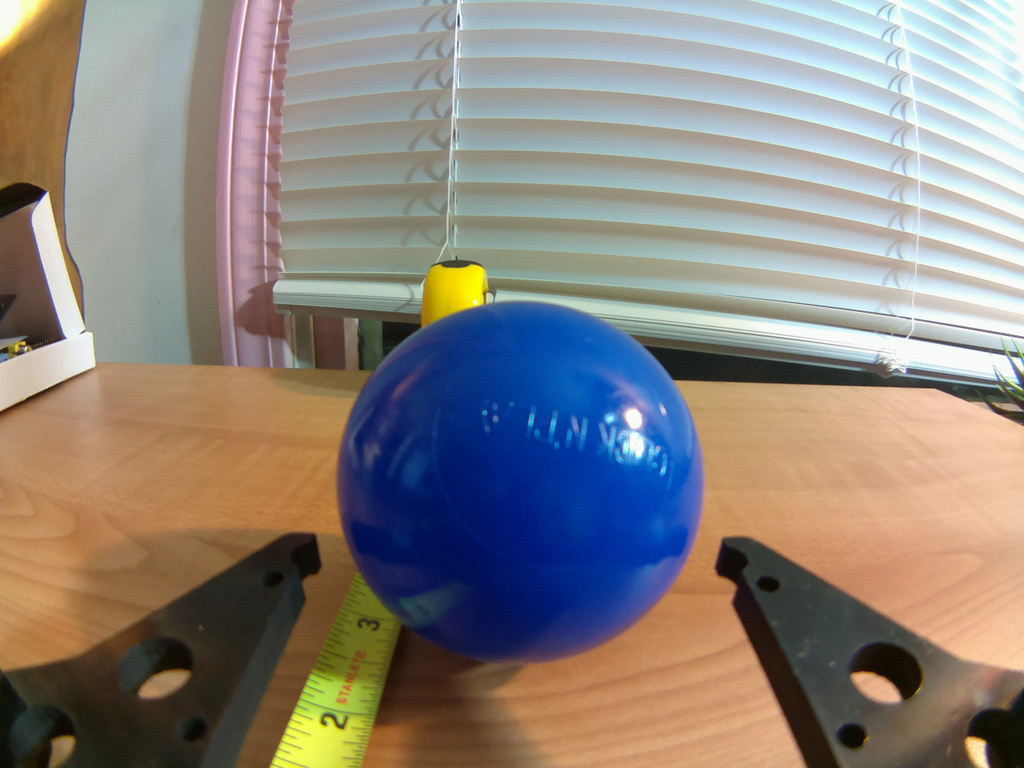ball: (335, 298, 707, 666)
